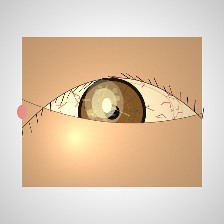corneal_ulcer: (79, 83, 129, 123)
